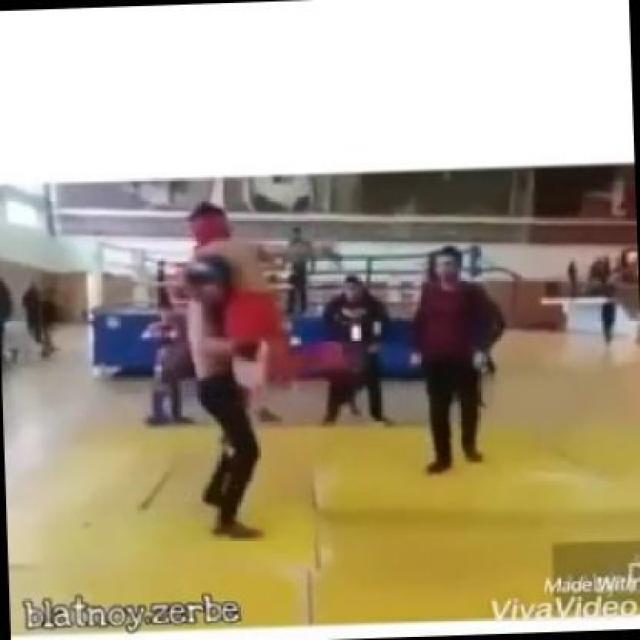fight: (178, 196, 291, 541)
